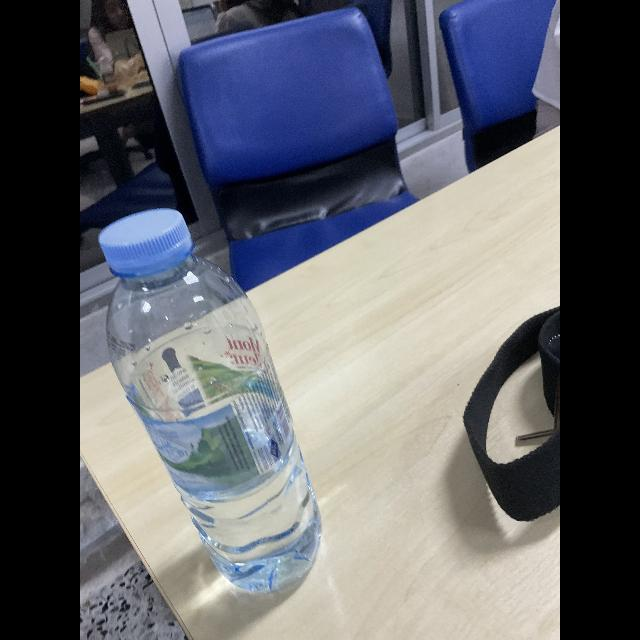plastic_bottle: (87, 204, 345, 606)
plastic_bottle_cap: (100, 207, 194, 277)
